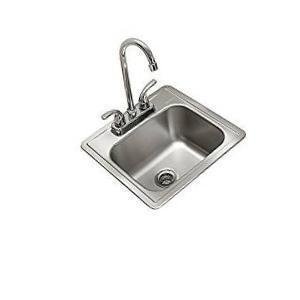Lavaplatos: (76, 14, 269, 215)
